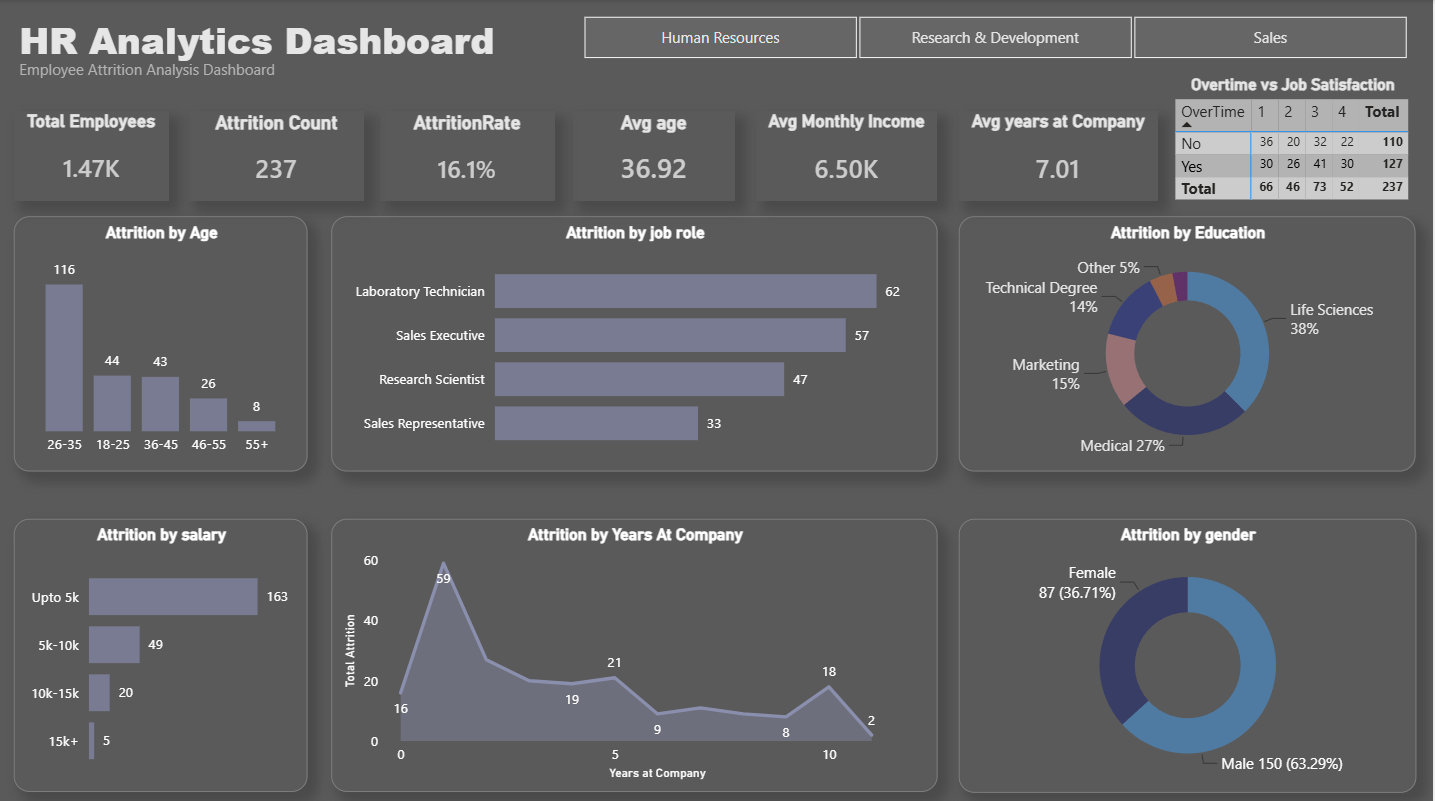

Layout of this report page (visuals, bound fields, positions):
{"tool":"powerbi","page":{"name":"Page 1","canvas":[1280,720],"ordinal":0},"visuals":[{"type":"cardVisual","title":"Total Employees","fields":{"Data":["CountNonNull(HR_Analytics.EmpID)"]},"box":[12.8,98.8,138.4,80.2],"z":0},{"type":"cardVisual","title":"AttritionRate","fields":{"Data":["HR_Analytics.AttritionRate"]},"box":[339.5,98.8,155.8,80.2],"z":1000},{"type":"cardVisual","title":"Attrition Count ","fields":{"Data":["HR_Analytics.Attrition Count Measure"]},"box":[168.6,98.8,157,80.2],"z":2000},{"type":"cardVisual","title":"Avg age","fields":{"Data":["Avg(HR_Analytics.Age)"]},"box":[511.6,98.8,145.3,80.2],"z":3000},{"type":"cardVisual","title":"Avg Monthly Income","fields":{"Data":["Avg(HR_Analytics.MonthlyIncome)"]},"box":[675.6,98.8,161.6,80.2],"z":4000},{"type":"cardVisual","title":"Avg years at Company","fields":{"Data":["Avg(HR_Analytics.YearsAtCompany)"]},"box":[857,98.8,177.9,80.2],"z":5000},{"type":"donutChart","title":"Attrition by Education","fields":{"Category":["HR_Analytics.EducationField"],"Y":["Sum(HR_Analytics.AttritionCount)"]},"box":[857,193,408.1,227.9],"z":6000},{"type":"columnChart","title":"Attrition by Age","fields":{"Category":["HR_Analytics.AgeGroup"],"Y":["Sum(HR_Analytics.AttritionCount)"]},"box":[12.8,193,262.8,227.9],"z":7000},{"type":"clusteredBarChart","title":"Attrition by salary","fields":{"Category":["HR_Analytics.SalarySlab"],"Y":["Sum(HR_Analytics.AttritionCount)"]},"box":[12.8,464,262.8,244.2],"z":8000},{"type":"clusteredBarChart","title":"Attrition by job role","fields":{"Category":["HR_Analytics.JobRole"],"Y":["Sum(HR_Analytics.AttritionCount)"]},"box":[295.3,193,541.9,227.9],"z":9000},{"type":"areaChart","title":"Attrition by Years At Company","fields":{"Category":["HR_Analytics.YearsAtCompany"],"Y":["HR_Analytics.Attrition Count Measure"]},"box":[295.3,464,541.9,244.2],"z":10000},{"type":"donutChart","title":"Attrition by gender","fields":{"Category":["HR_Analytics.Gender"],"Y":["Sum(HR_Analytics.AttritionCount)"]},"box":[856.5,463.4,408.7,244.5],"z":11000},{"type":"slicer","fields":{"Values":["HR_Analytics.Department"]},"box":[495.4,8.1,784.9,51.2],"z":12000},{"type":"textbox","box":[12.8,8.1,548.8,59.3],"z":13000},{"type":"textbox","box":[12.8,47.7,343,39.5],"z":14000},{"type":"pivotTable","title":"Overtime vs Job Satisfaction","fields":{"Rows":["HR_Analytics.OverTime"],"Columns":["HR_Analytics.JobSatisfaction"],"Values":["HR_Analytics.Total Attrition"]},"box":[1045.4,67.4,219.8,122.1],"z":15000}]}

Visuals, with their boxes in screenshot pixels (x1, y1, x2, y2), scaled from the page's 1280x720 canvas onto the 1435x801 screenshot:
"Total Employees" cardVisual: 14 110 170 199
"AttritionRate" cardVisual: 381 110 555 199
"Attrition Count " cardVisual: 189 110 365 199
"Avg age" cardVisual: 574 110 736 199
"Avg Monthly Income" cardVisual: 757 110 939 199
"Avg years at Company" cardVisual: 961 110 1160 199
"Attrition by Education" donutChart: 961 215 1418 468
"Attrition by Age" columnChart: 14 215 309 468
"Attrition by salary" clusteredBarChart: 14 516 309 788
"Attrition by job role" clusteredBarChart: 331 215 939 468
"Attrition by Years At Company" areaChart: 331 516 939 788
"Attrition by gender" donutChart: 960 516 1418 788
slicer - HR_Analytics.Department: 555 9 1434 66
textbox: 14 9 630 75
textbox: 14 53 399 97
"Overtime vs Job Satisfaction" pivotTable: 1172 75 1418 211
